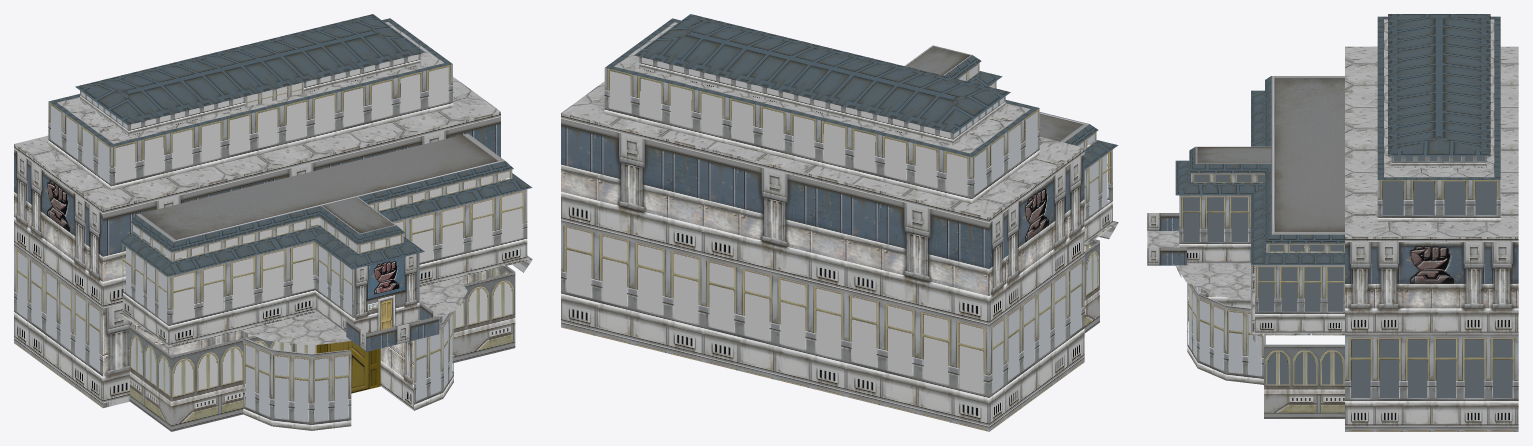
Rendered from s_main_hdtex.glb.
The picture shows the model from 3 angles, left to right: view 1: azimuth 30°, elevation 25°; view 2: azimuth 150°, elevation 25°; view 3: azimuth 270°, elevation 25°; orthographic projection. The views are drawn at different scales.
Visible parts, largest first — view 1: S_HC_Main, LitWin_S_Main; view 2: S_HC_Main, LitWin_S_Main; view 3: S_HC_Main, LitWin_S_Main.
Boxes of the visible parts, <box> form: S_HC_Main: <box>14,14,532,431</box>; LitWin_S_Main: <box>17,54,522,421</box>; S_HC_Main: <box>561,14,1118,431</box>; LitWin_S_Main: <box>566,57,1107,393</box>; S_HC_Main: <box>1147,14,1518,431</box>; LitWin_S_Main: <box>1183,156,1512,398</box>.
Bounding box in the file's own units: 42.51 × 26.88 × 35.1.
10 materials, 10 textured.
